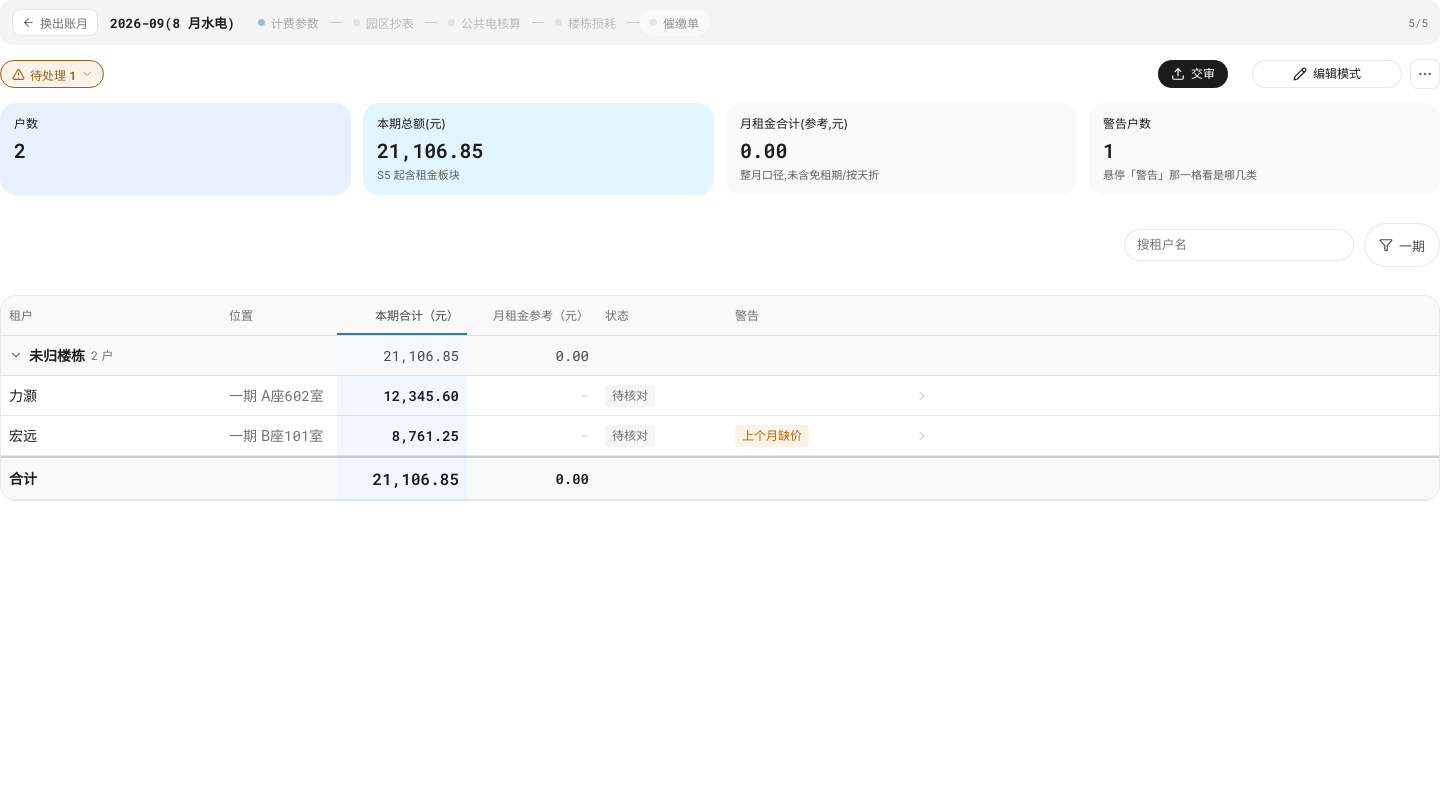
§5.10 筛选行 —— >2 件控件就收:搜索留外面,选择器进面板 › M 档:与 S 同判(narrow)—— 复选与批量确认都不在行上,筛选钮与面板照出
The image size is (1440, 810).
Expected: the field with class "bn-search" is shown, x1=1124 y1=229 x2=1354 y2=261
Click the button with class "fp-emb". click: (1327, 74)
box: x1=1252 y1=60 x2=1402 y2=88
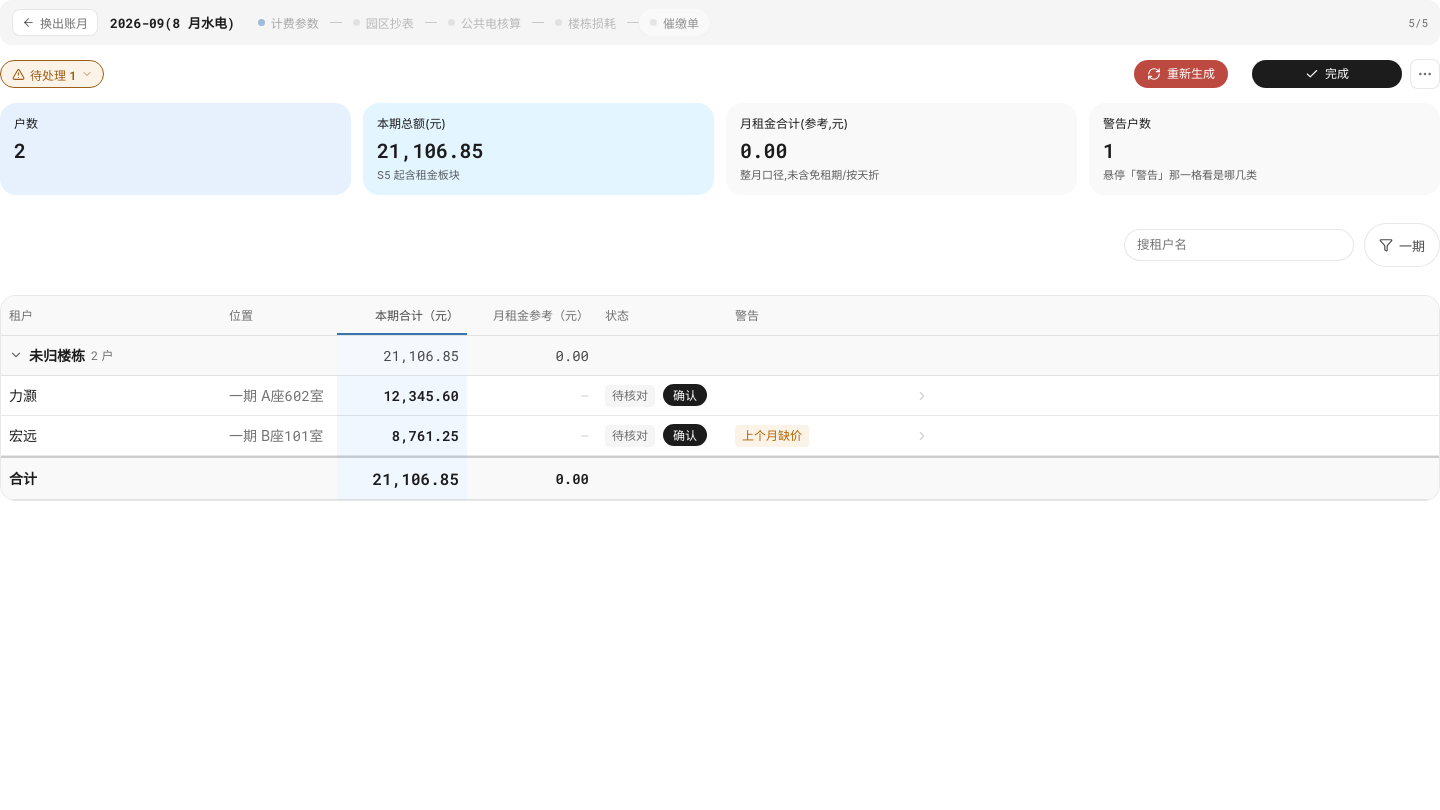
Click the button with class "bn-fbtn". click: (1402, 245)
box: x1=1364 y1=223 x2=1439 y2=267
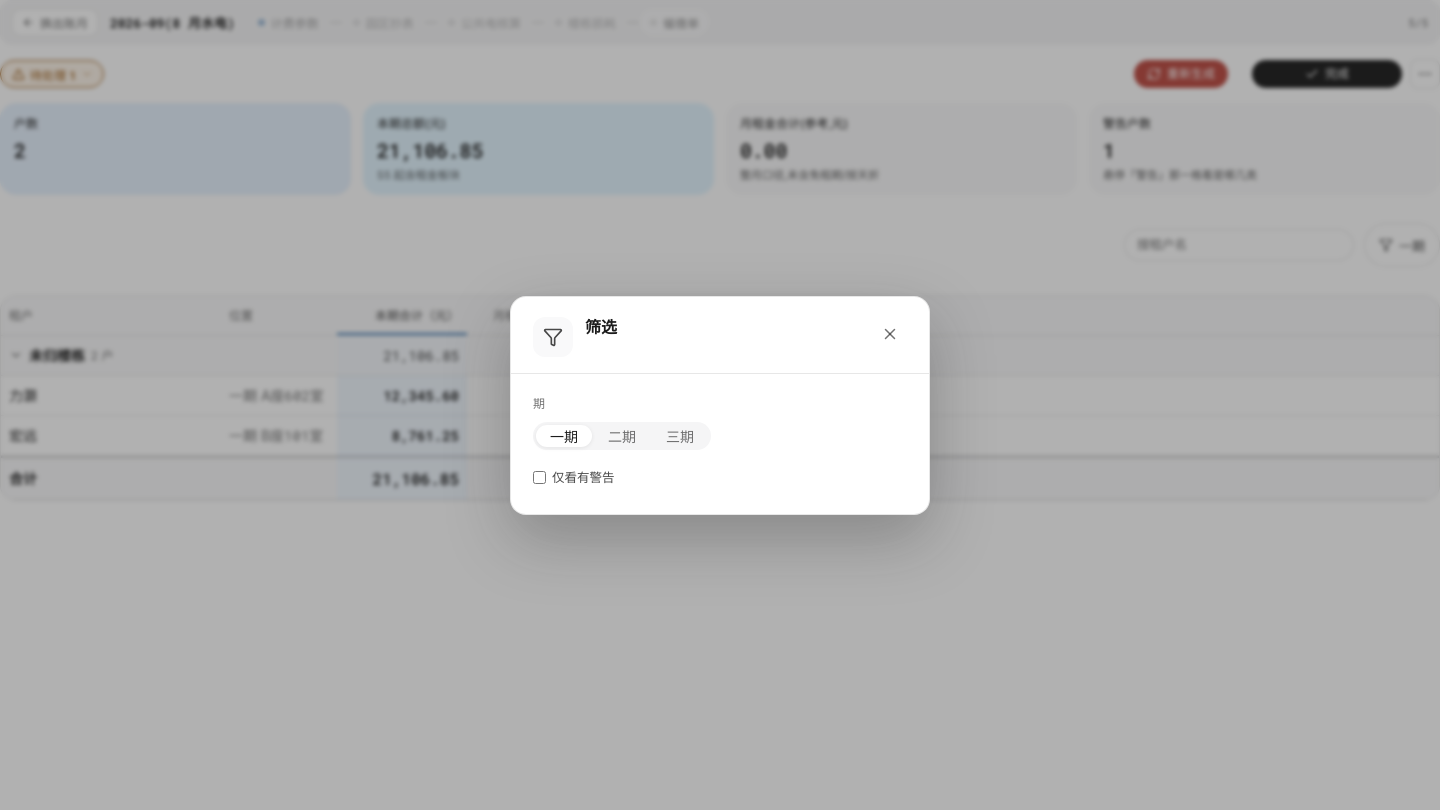
Result: the elements with class "ds-seg-item" read "一期", "二期", "三期", in this order at x1=536 y1=424 x2=592 y2=446; x1=594 y1=424 x2=650 y2=446; x1=652 y1=424 x2=708 y2=446
Result: the text "仅看有警告" is shown at x1=533 y1=470 x2=614 y2=484
